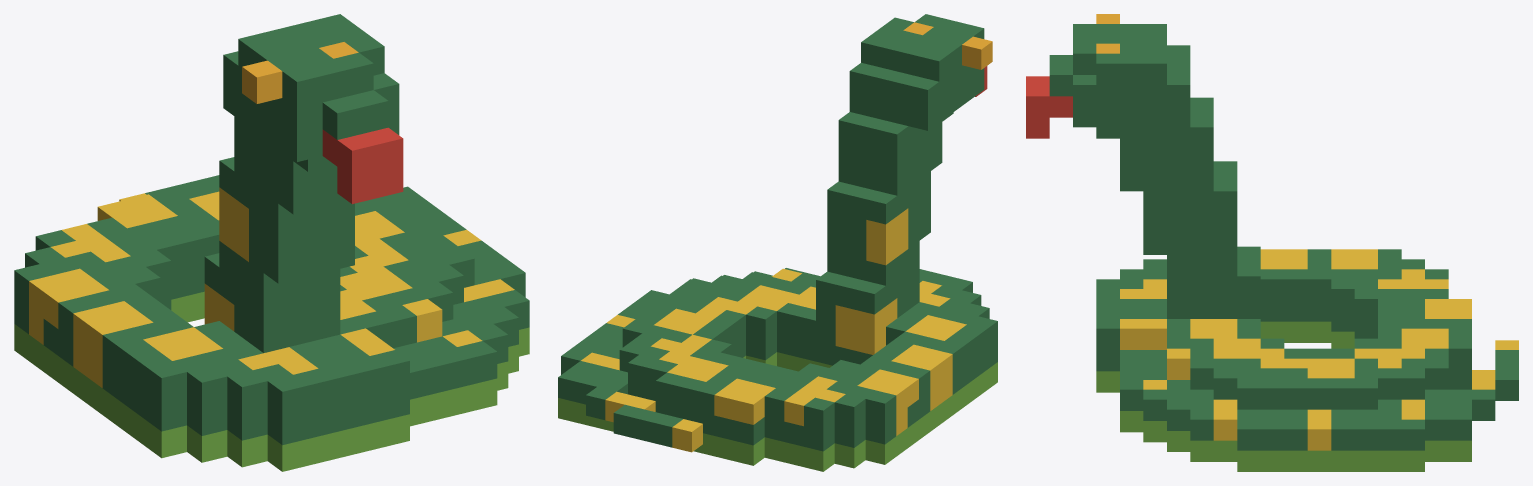
File: snake.glb
3 views of the same model, side by side, from view 1: azimuth 30°, elevation 25°; view 2: azimuth 150°, elevation 25°; view 3: azimuth 270°, elevation 25° (orthographic). The views are drawn at different scales.
Parts seen in each view (by area): view 1: snake; view 2: snake; view 3: snake.
Part boxes in pixels (left/top/right/bottom): snake: left=14, top=14, right=529, bottom=471; snake: left=558, top=14, right=997, bottom=471; snake: left=1026, top=14, right=1518, bottom=471.
Bounding box in the file's own units: 1.6 × 1.5 × 2.1.
Materials: 1 (1 with a texture image).
